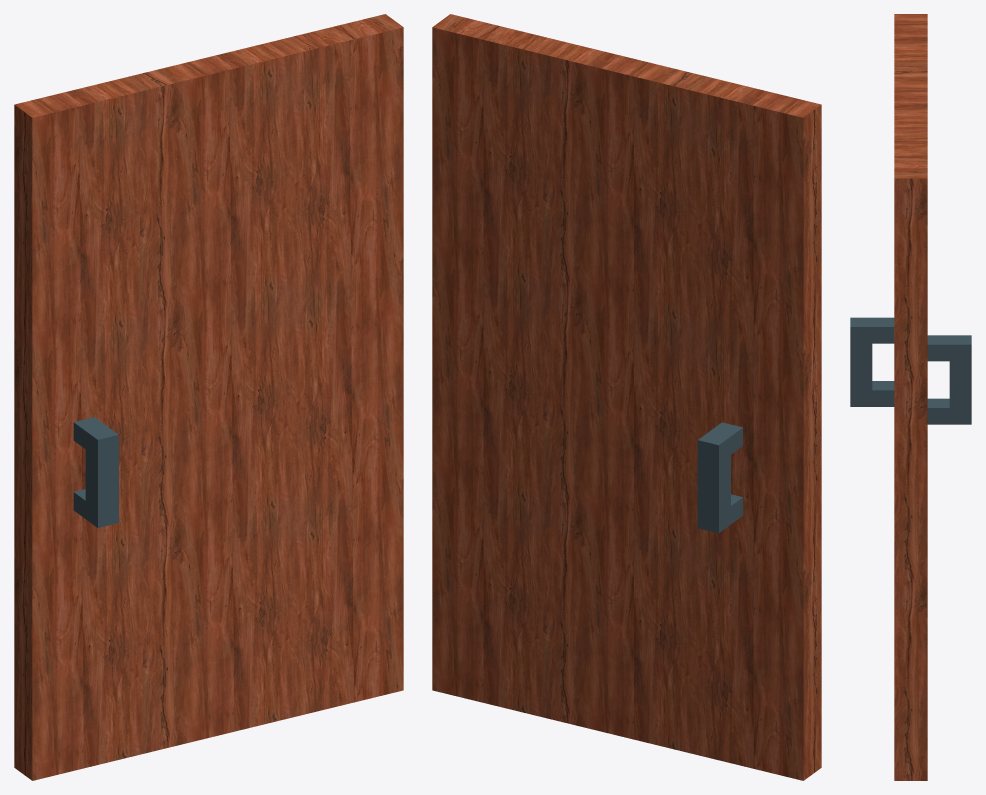
Rendered from door_captain.fbx.
The picture shows the model from 3 angles, left to right: view 1: azimuth 30°, elevation 25°; view 2: azimuth 150°, elevation 25°; view 3: azimuth 270°, elevation 25°; orthographic projection. The views are drawn at different scales.
Parts seen in each view (by area): view 1: Object007; view 2: Object007; view 3: Object007.
Part boxes in pixels (left/top/right/bottom): Object007: left=14, top=14, right=403, bottom=780; Object007: left=432, top=14, right=821, bottom=780; Object007: left=850, top=14, right=971, bottom=780.
Size of the model in its own units: 353 by 602 by 110.
